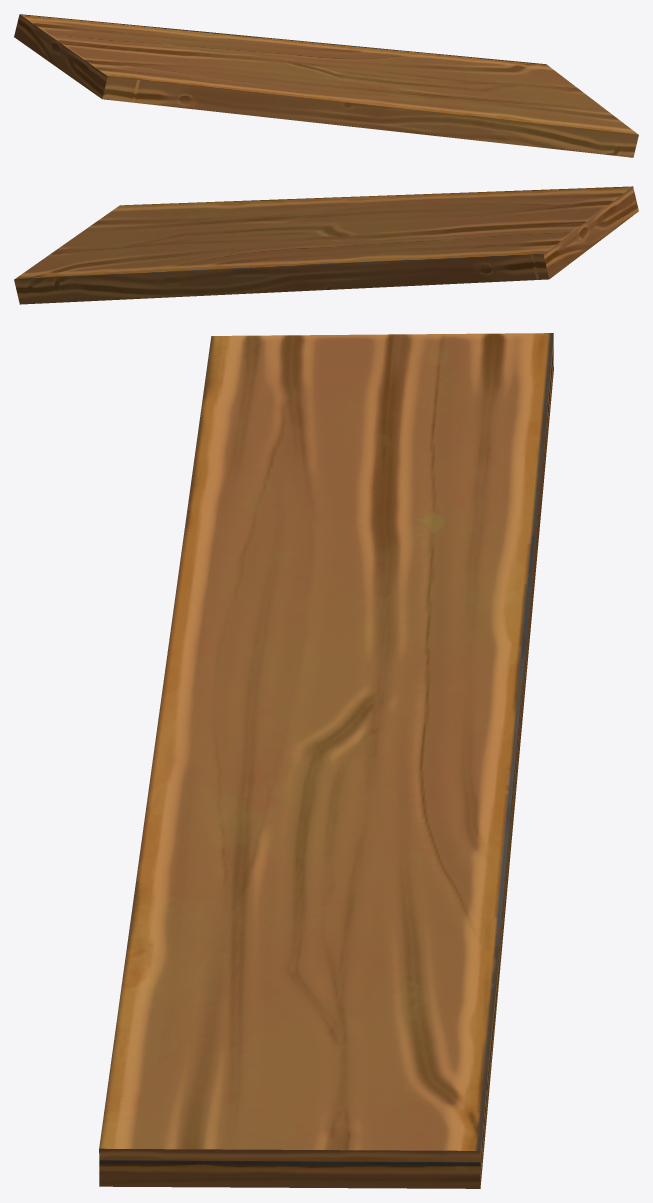
3 views of the same model, one above another, from view 1: azimuth 30°, elevation 25°; view 2: azimuth 150°, elevation 25°; view 3: azimuth 270°, elevation 25° (orthographic). The views are drawn at different scales.
Visible parts, largest first — view 1: Cube.1183; view 2: Cube.1183; view 3: Cube.1183.
Part boxes in pixels (bbox=[...]): Cube.1183: bbox=[14, 14, 638, 157]; Cube.1183: bbox=[14, 186, 638, 304]; Cube.1183: bbox=[99, 333, 553, 1188].
Size of the model in its own units: 239 by 81.22 by 91.62.
Materials: 1 (1 with a texture image).
